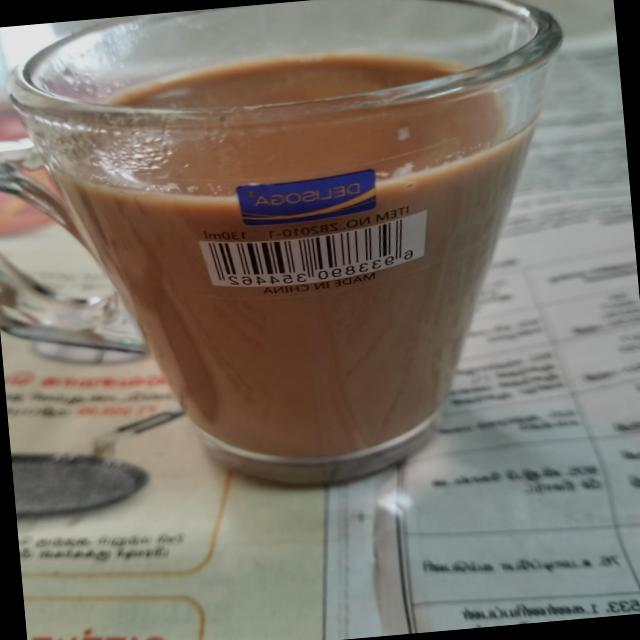glass-VX4N: (0, 0, 596, 510)
